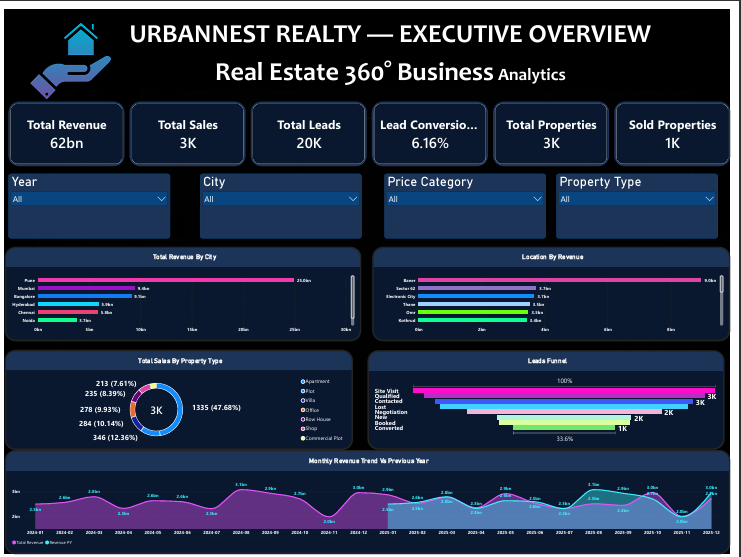

This screenshot's page, from the dashboard's own definition file:
{"tool":"powerbi","page":{"name":"Executive Overview","canvas":[2000,1500],"ordinal":0},"visuals":[{"type":"textbox","box":[0,0,2000,222.5],"z":0},{"type":"textbox","box":[10,290,1990,280],"z":1000},{"type":"cardVisual","fields":{"Data":["_Saleas_Measure.Total Revenue"]},"box":[10,252.5,320,177.5],"z":2000,"group":"g1"},{"type":"slicer","fields":{"Values":["Dim_Date.Year"]},"box":[10,452,446,178],"z":2000},{"type":"cardVisual","fields":{"Data":["_Saleas_Measure.Total Sales"]},"box":[344,252.5,320,177.5],"z":3000,"group":"g1"},{"type":"slicer","fields":{"Values":["Dim_Property.Property_Type"]},"box":[1520,452,446,178],"z":3000},{"type":"cardVisual","fields":{"Data":["_Lead_Measures.Total Leads"]},"box":[678,252.5,320,177.5],"z":4000,"group":"g1"},{"type":"slicer","fields":{"Values":["Dim_Property.Price  Category"]},"box":[1046,452,446,178],"z":4000},{"type":"cardVisual","fields":{"Data":["_Lead_Measures.Lead Conversion %"]},"box":[1012,252.5,320,177.5],"z":5000,"group":"g1"},{"type":"slicer","fields":{"Values":["Dim_Location.City"]},"box":[538,452,446,178],"z":5000},{"type":"cardVisual","fields":{"Data":["_Properties_Measures (2).Total Properties"]},"box":[1346,252.5,320,177.5],"z":6000,"group":"g1"},{"type":"clusteredBarChart","title":"Total Revenue By City","fields":{"Category":["Dim_Location.City"],"Y":["_Saleas_Measure.Total Revenue"]},"box":[0,653.3,983.3,260],"z":6000},{"type":"cardVisual","fields":{"Data":["_Properties_Measures (2).Sold Properties"]},"box":[1680,252.5,320,177.5],"z":7000,"group":"g1"},{"type":"barChart","title":"Location By Revenue","fields":{"Category":["Dim_Location.Location"],"Y":["_Saleas_Measure.Total Revenue"]},"box":[1013.3,653.3,986.7,260],"z":7000},{"type":"donutChart","title":"Total Sales By Property Type","fields":{"Category":["Dim_Property.Property_Type"],"Y":["_Saleas_Measure.Total Sales"]},"box":[0,936.7,960,276.7],"z":8000},{"type":"funnel","title":"Leads Funnel","fields":{"Category":["Fact_Leads.Lead_Status"],"Y":["_Lead_Measures.Total Leads"]},"box":[1000,938,984,274],"z":9000},{"type":"lineChart","title":"Monthly Revenue Trend Vs  Previous Year","fields":{"Category":["Dim_Date.Year_Month"],"Y":["_Saleas_Measure.Total Revenue","_Time_Intelligence.Revenue PY"]},"box":[0,1212.5,2000,287.5],"z":10000},{"type":"group","id":"g1","title":"Group 1","box":[10,252.5,1990,177.5],"z":11000},{"type":"image","box":[10,30,343.3,223.3],"z":12000}]}

Visuals, with their boxes in screenshot pixels (x1, y1, x2, y2), scaled from the page's 2000x1500 canvas onto the 741x557 screenshot:
textbox: <region>0, 0, 740, 83</region>
textbox: <region>4, 108, 740, 212</region>
cardVisual - _Saleas_Measure.Total Revenue: <region>4, 94, 122, 160</region>
slicer - Dim_Date.Year: <region>4, 168, 169, 234</region>
cardVisual - _Saleas_Measure.Total Sales: <region>127, 94, 246, 160</region>
slicer - Dim_Property.Property_Type: <region>563, 168, 728, 234</region>
cardVisual - _Lead_Measures.Total Leads: <region>251, 94, 370, 160</region>
slicer - Dim_Property.Price  Category: <region>388, 168, 553, 234</region>
cardVisual - _Lead_Measures.Lead Conversion %: <region>375, 94, 494, 160</region>
slicer - Dim_Location.City: <region>199, 168, 365, 234</region>
cardVisual - _Properties_Measures (2).Total Properties: <region>499, 94, 617, 160</region>
"Total Revenue By City" clusteredBarChart: <region>0, 243, 364, 339</region>
cardVisual - _Properties_Measures (2).Sold Properties: <region>622, 94, 740, 160</region>
"Location By Revenue" barChart: <region>375, 243, 740, 339</region>
"Total Sales By Property Type" donutChart: <region>0, 348, 356, 451</region>
"Leads Funnel" funnel: <region>370, 348, 735, 450</region>
"Monthly Revenue Trend Vs  Previous Year" lineChart: <region>0, 450, 740, 556</region>
"Group 1" group: <region>4, 94, 740, 160</region>
image: <region>4, 11, 131, 94</region>
